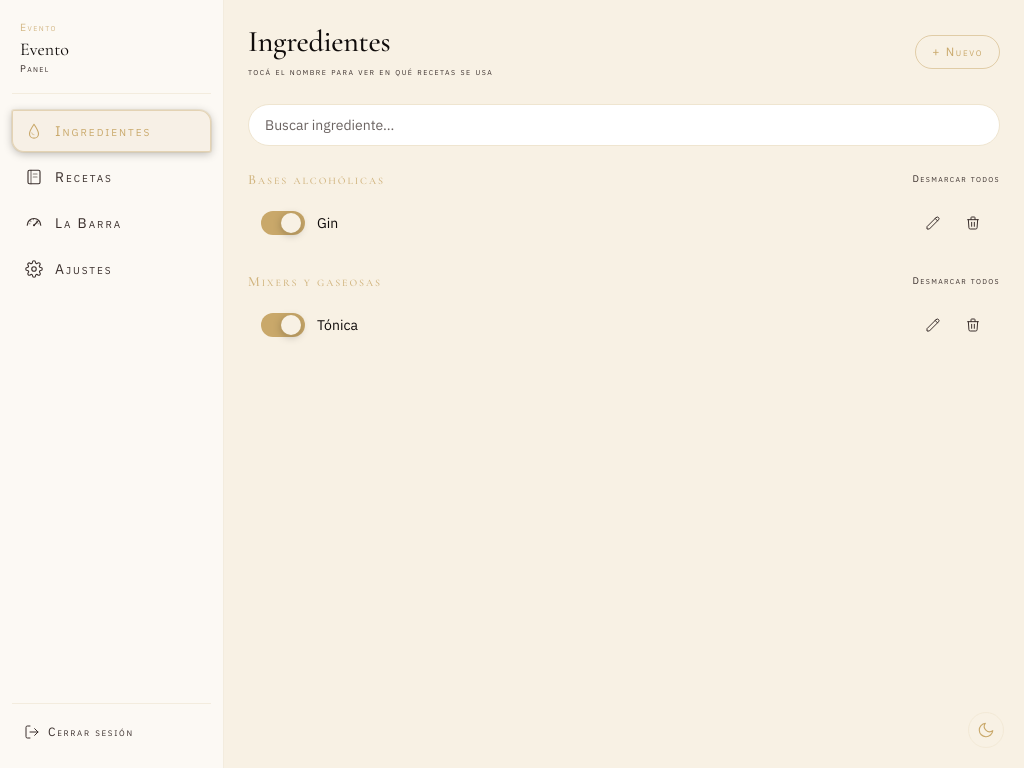
Scenario: AdminPanel › Authenticated panel › switches to Recetas tab when clicked
Click the button with test id "tab-recipes" at (112, 176), box [12,156,211,198]
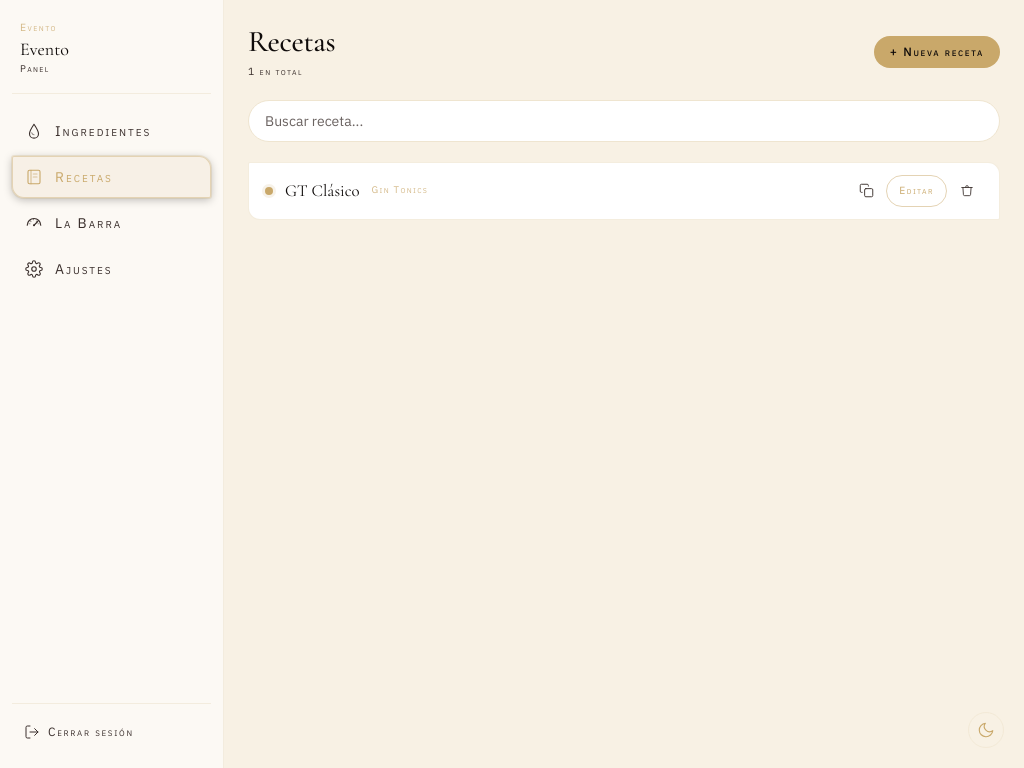
Result: the text "GT Clásico" is shown at [285,178,360,203]
